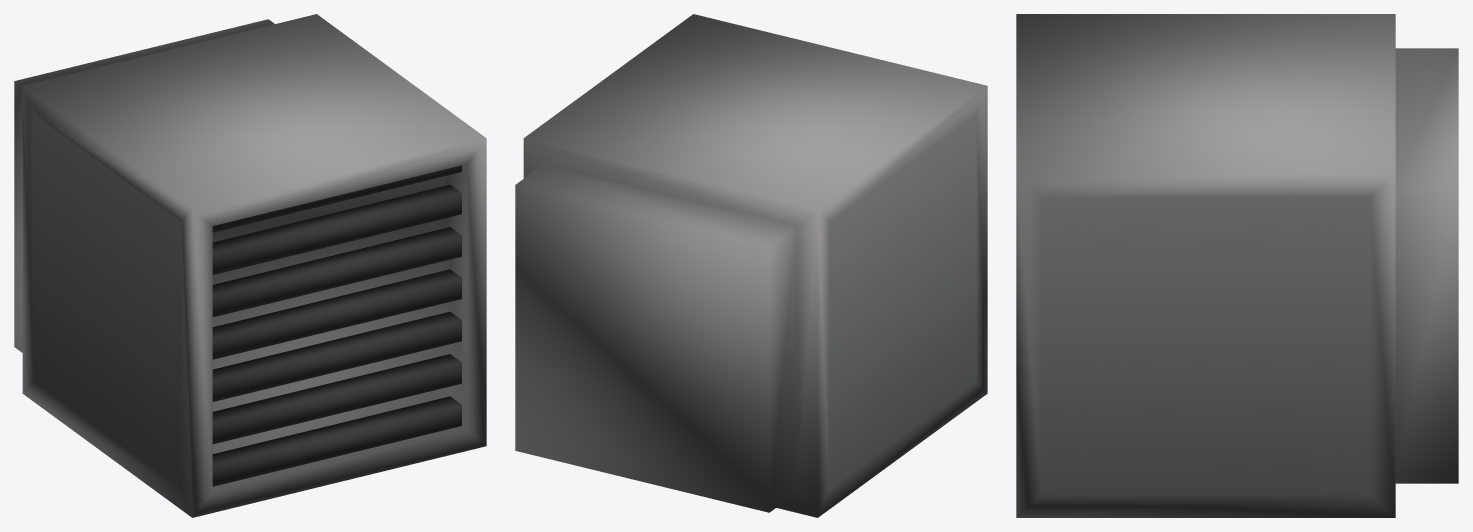
The model's file is TubulationEndCOnnectionEng.fbx.
3 renders of one model, left to right at view 1: azimuth 30°, elevation 25°; view 2: azimuth 150°, elevation 25°; view 3: azimuth 270°, elevation 25°, orthographic. The views are drawn at different scales.
Visible parts, largest first — view 1: TubulationEndCOnnectionEng; view 2: TubulationEndCOnnectionEng; view 3: TubulationEndCOnnectionEng.
Boxes of the visible parts, x1,y1,x2,y2 form: TubulationEndCOnnectionEng: (14,14,486,517); TubulationEndCOnnectionEng: (515,14,987,517); TubulationEndCOnnectionEng: (1016,14,1458,517).
Bounding box in the file's own units: 60 × 60 × 70.
1 material, 1 textured.
